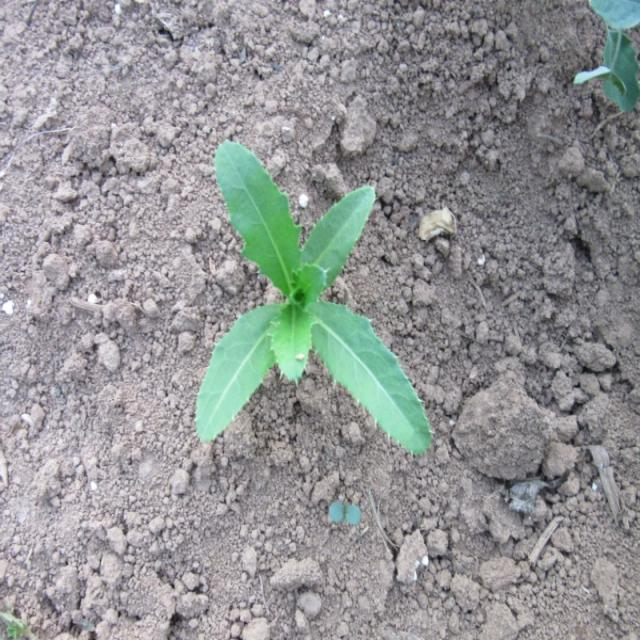cs: (191, 137, 433, 459)
